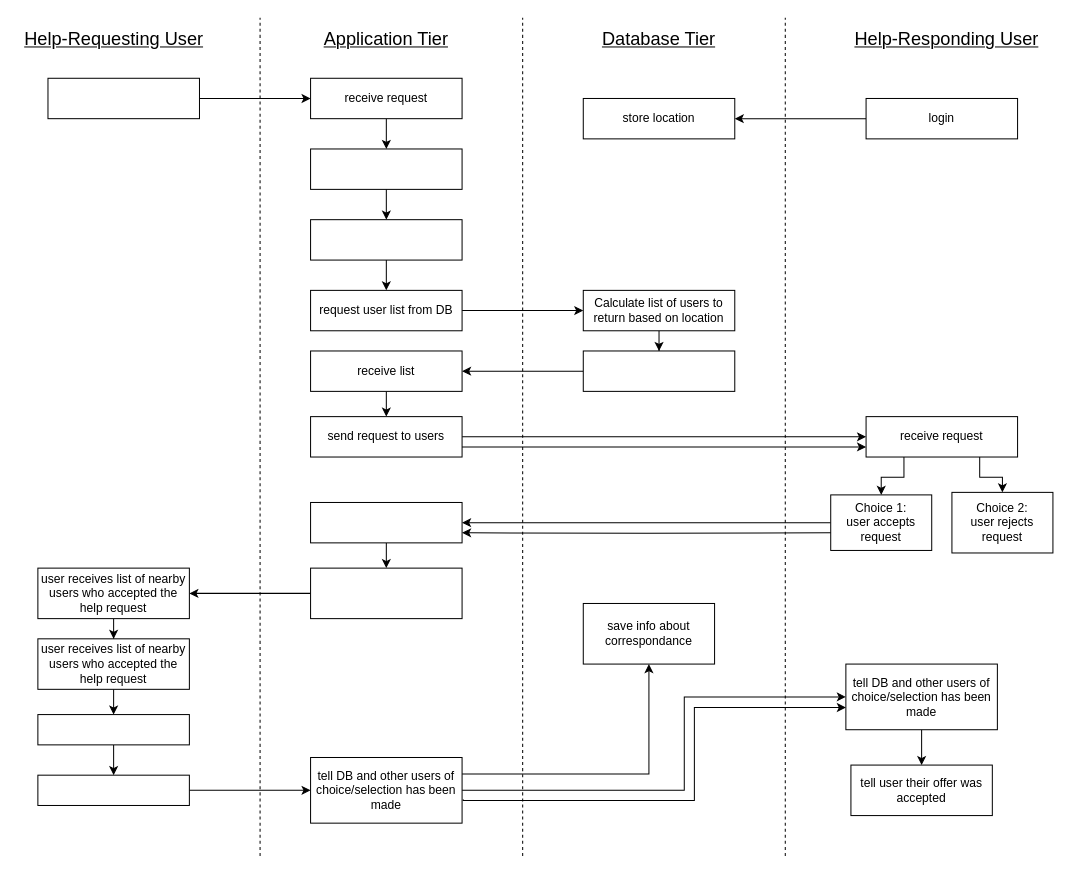
This 1071x875 diagram has some shape labels left out. Each missing label, with the centre of its shape:
display list to user: pixel 113 729
extract geodata: pixel 386 168
middleware: pixel 386 239
receive response: pixel 386 522
send list back: pixel 658 370
sends list of nearby users who accepted the help request: pixel 386 593
Sends message requesting help: pixel 123 98
user chooses a user from the list: pixel 113 789
